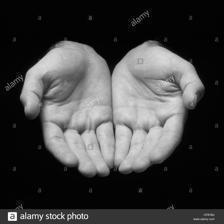Hand: (20, 27, 105, 185), (113, 33, 194, 185)
